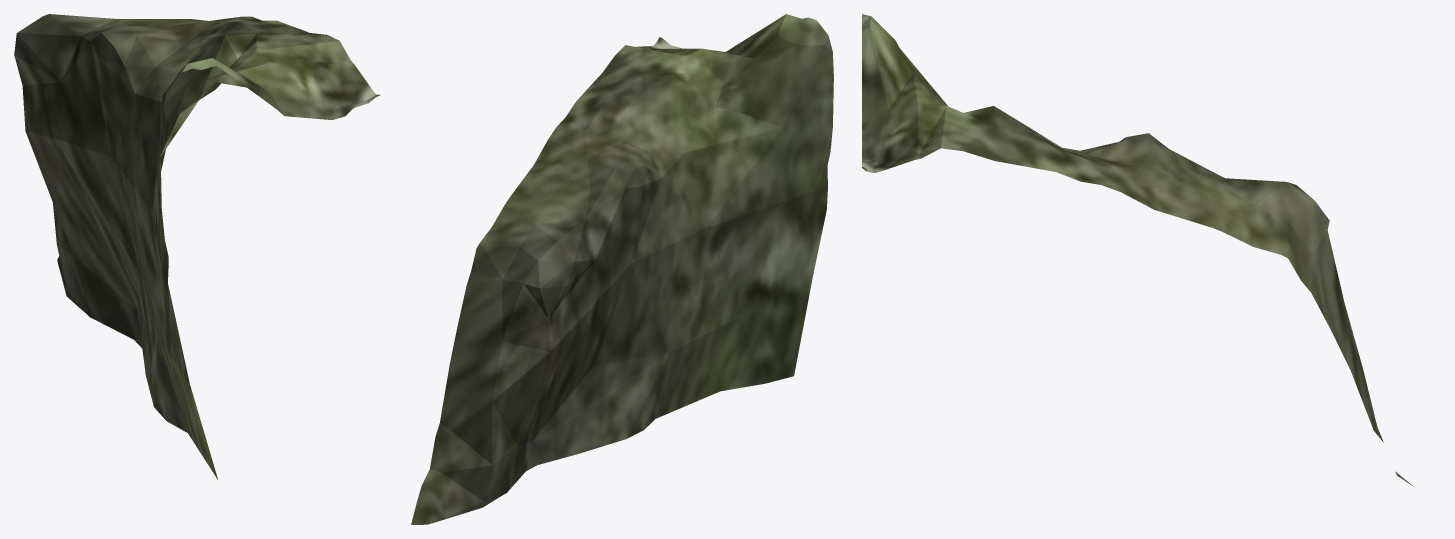
The picture shows the model from 3 angles, left to right: view 1: azimuth 30°, elevation 25°; view 2: azimuth 150°, elevation 25°; view 3: azimuth 270°, elevation 25°; orthographic projection. The views are drawn at different scales.
Bounding box in the file's own units: 0.7873 × 1.57 × 1.94.
Materials: 1 (1 with a texture image).
